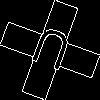U: (25, 25, 75, 80)
